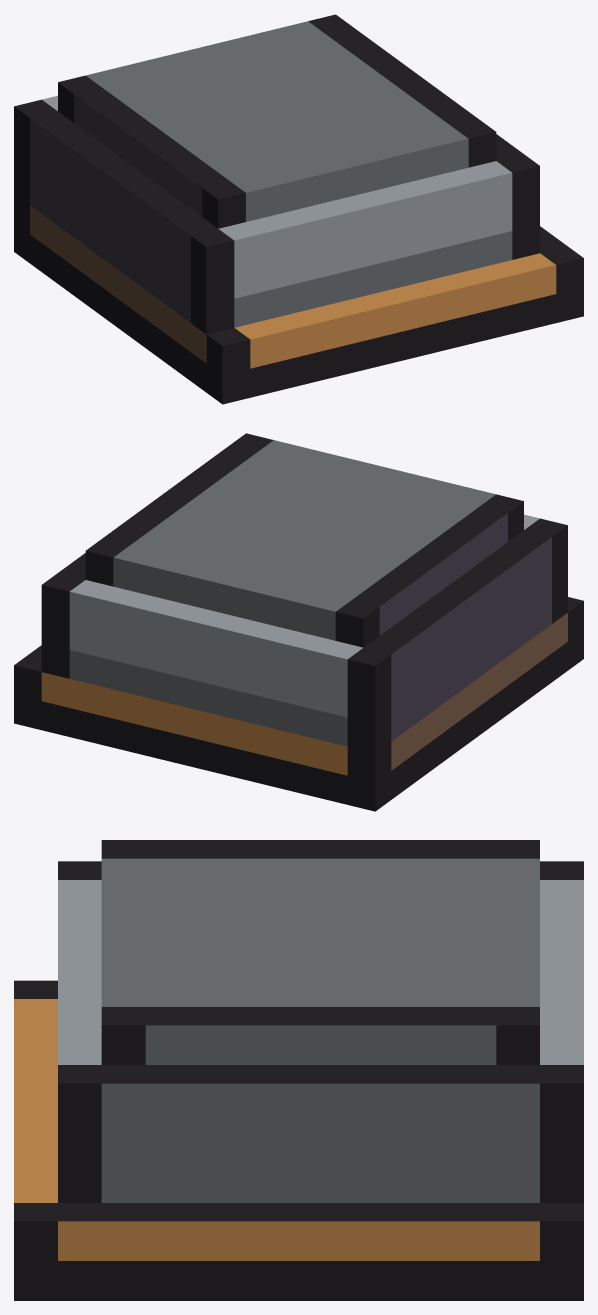
The model's file is knight_PauldronR.glb.
3 renders of one model, top to bottom at view 1: azimuth 30°, elevation 25°; view 2: azimuth 150°, elevation 25°; view 3: azimuth 270°, elevation 25°, orthographic. The views are drawn at different scales.
Parts seen in each view (by area): view 1: knight_PauldronR; view 2: knight_PauldronR; view 3: knight_PauldronR.
Boxes of the visible parts, x1,y1,x2,y2 form: knight_PauldronR: (14, 14, 583, 404); knight_PauldronR: (14, 433, 583, 811); knight_PauldronR: (14, 840, 583, 1300).
Bounding box in the file's own units: 1.62 × 0.75 × 1.62.
1 material, 1 textured.
